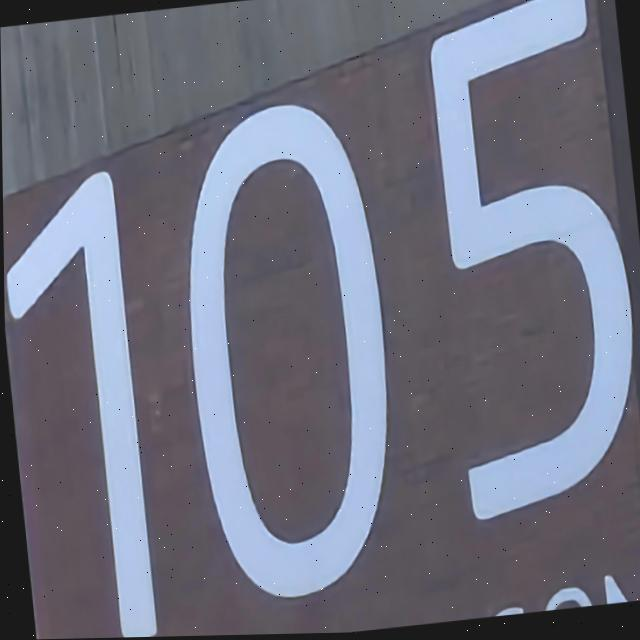character: (162, 83, 420, 615), (408, 0, 640, 530), (2, 161, 167, 640)
